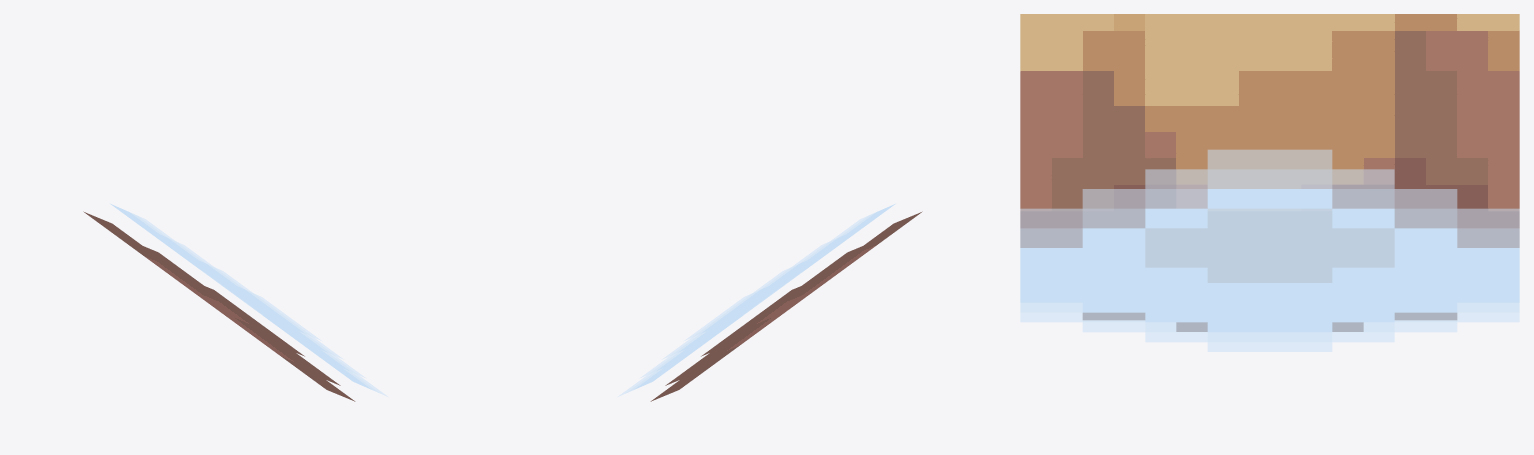
3 views of the same model, side by side, from view 1: azimuth 30°, elevation 25°; view 2: azimuth 150°, elevation 25°; view 3: azimuth 270°, elevation 25° (orthographic). The views are drawn at different scales.
Size of the model in its own units: 0.5459 by 0.6892 by 1.
2 materials, 2 textured.
